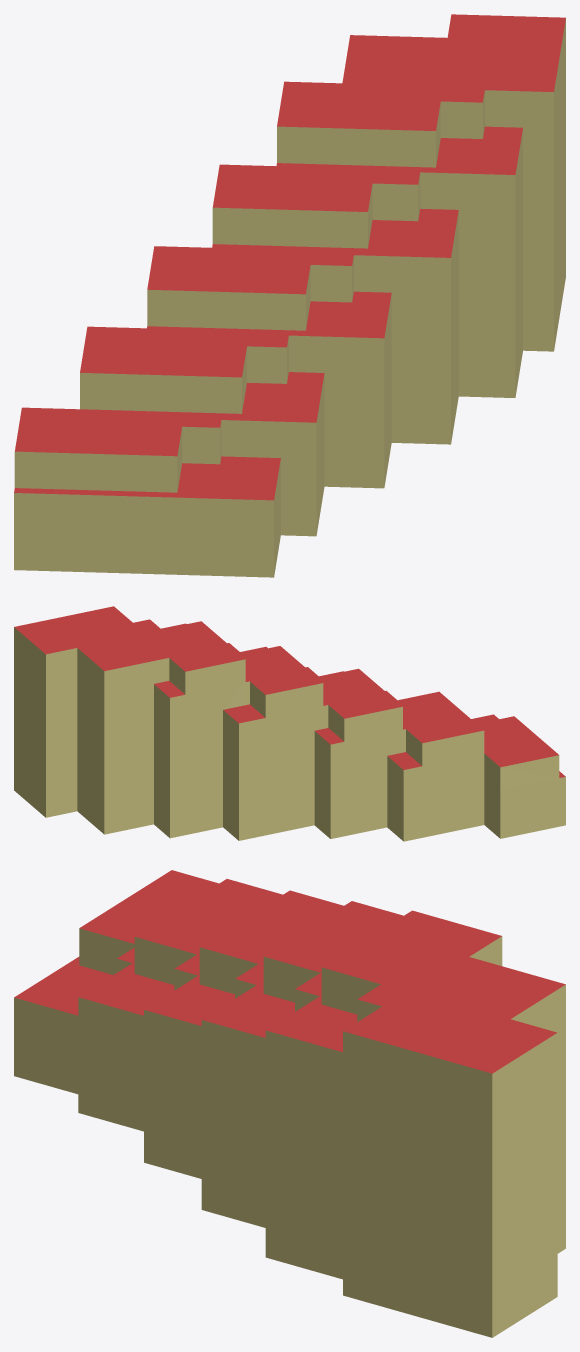
3 views of the same model, one above another, from view 1: azimuth 30°, elevation 25°; view 2: azimuth 150°, elevation 25°; view 3: azimuth 270°, elevation 25° (orthographic). The views are drawn at different scales.
Size of the model in its own units: 54.44 by 35.78 by 18.9.
